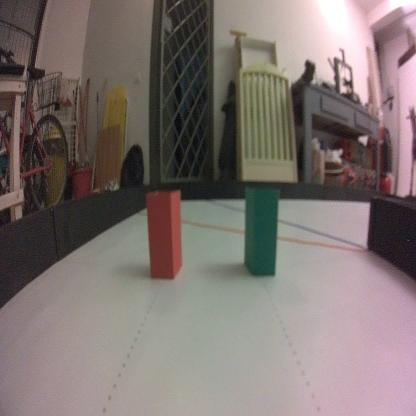green: (241, 181, 280, 280)
red: (143, 188, 183, 282)
